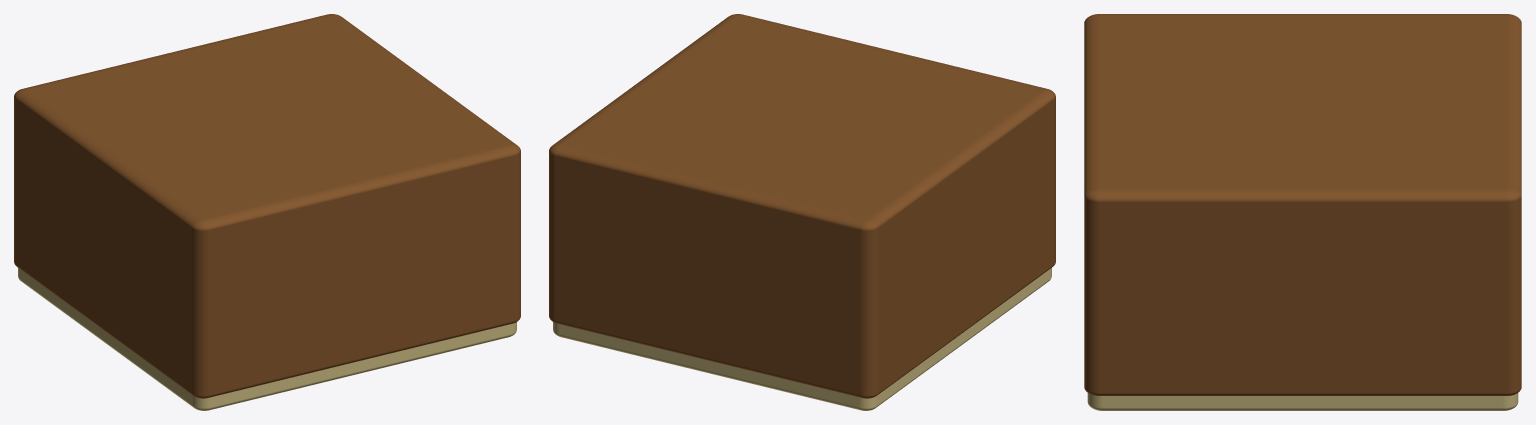
File: PaddedShirtShoulder.fbx
3 renders of one model, left to right at view 1: azimuth 30°, elevation 25°; view 2: azimuth 150°, elevation 25°; view 3: azimuth 270°, elevation 25°, orthographic. The views are drawn at different scales.
Visible parts, largest first — view 1: Upper Right Arm.001, Upper Right Arm.002; view 2: Upper Right Arm.001, Upper Right Arm.002; view 3: Upper Right Arm.001, Upper Right Arm.002.
Part boxes in pixels (bbox=[...]): Upper Right Arm.001: bbox=[14, 14, 520, 398]; Upper Right Arm.002: bbox=[18, 268, 516, 410]; Upper Right Arm.001: bbox=[549, 14, 1055, 398]; Upper Right Arm.002: bbox=[553, 268, 1051, 410]; Upper Right Arm.001: bbox=[1084, 14, 1521, 395]; Upper Right Arm.002: bbox=[1087, 393, 1518, 410].
Bounding box in the file's own units: 103 × 57.47 × 103.
